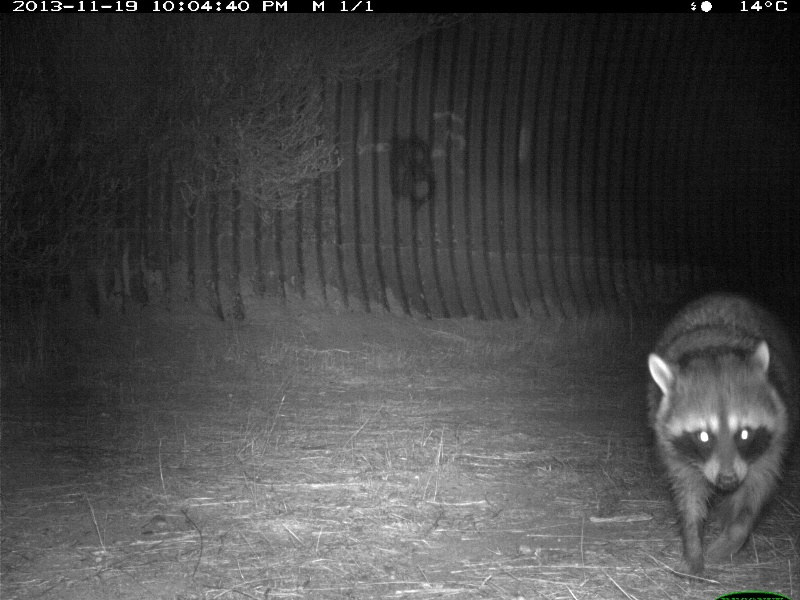raccoon: (643, 294, 791, 572)
